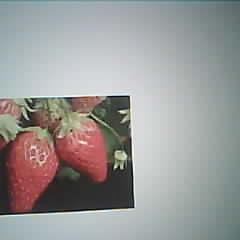straw-ripe: (7, 127, 59, 213), (55, 118, 107, 183)
